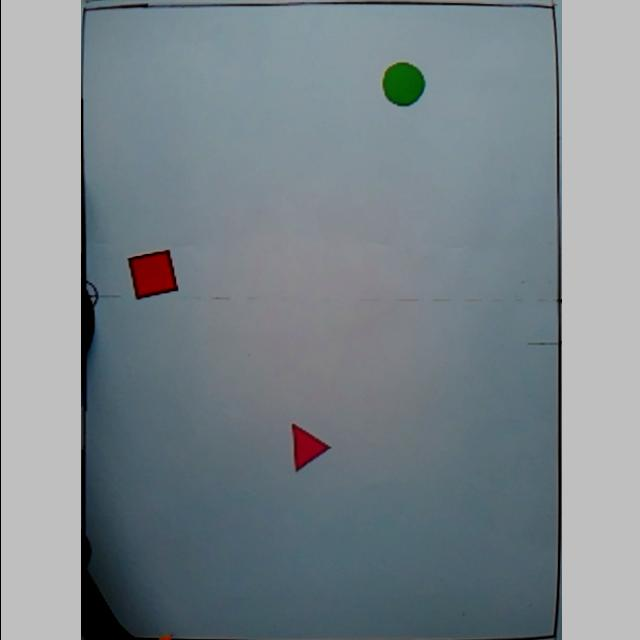greenCircle: (377, 60, 425, 110)
pinkTriangle: (286, 423, 330, 473)
redSquare: (125, 248, 178, 300)
